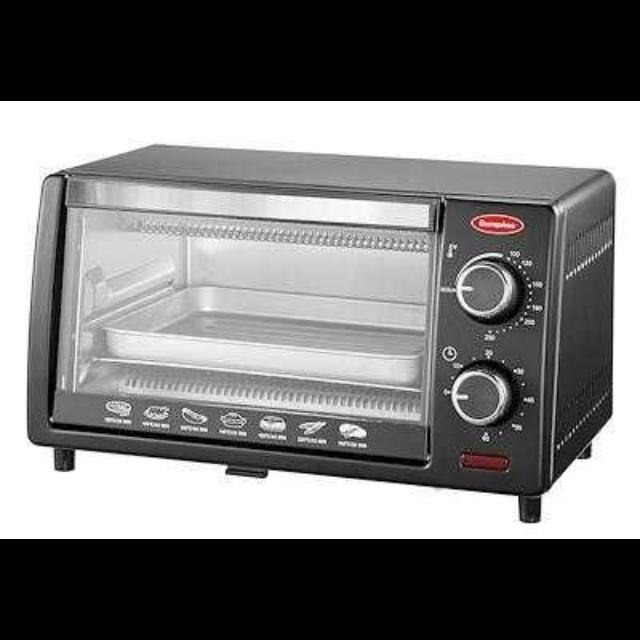Oven: (29, 156, 568, 497)
